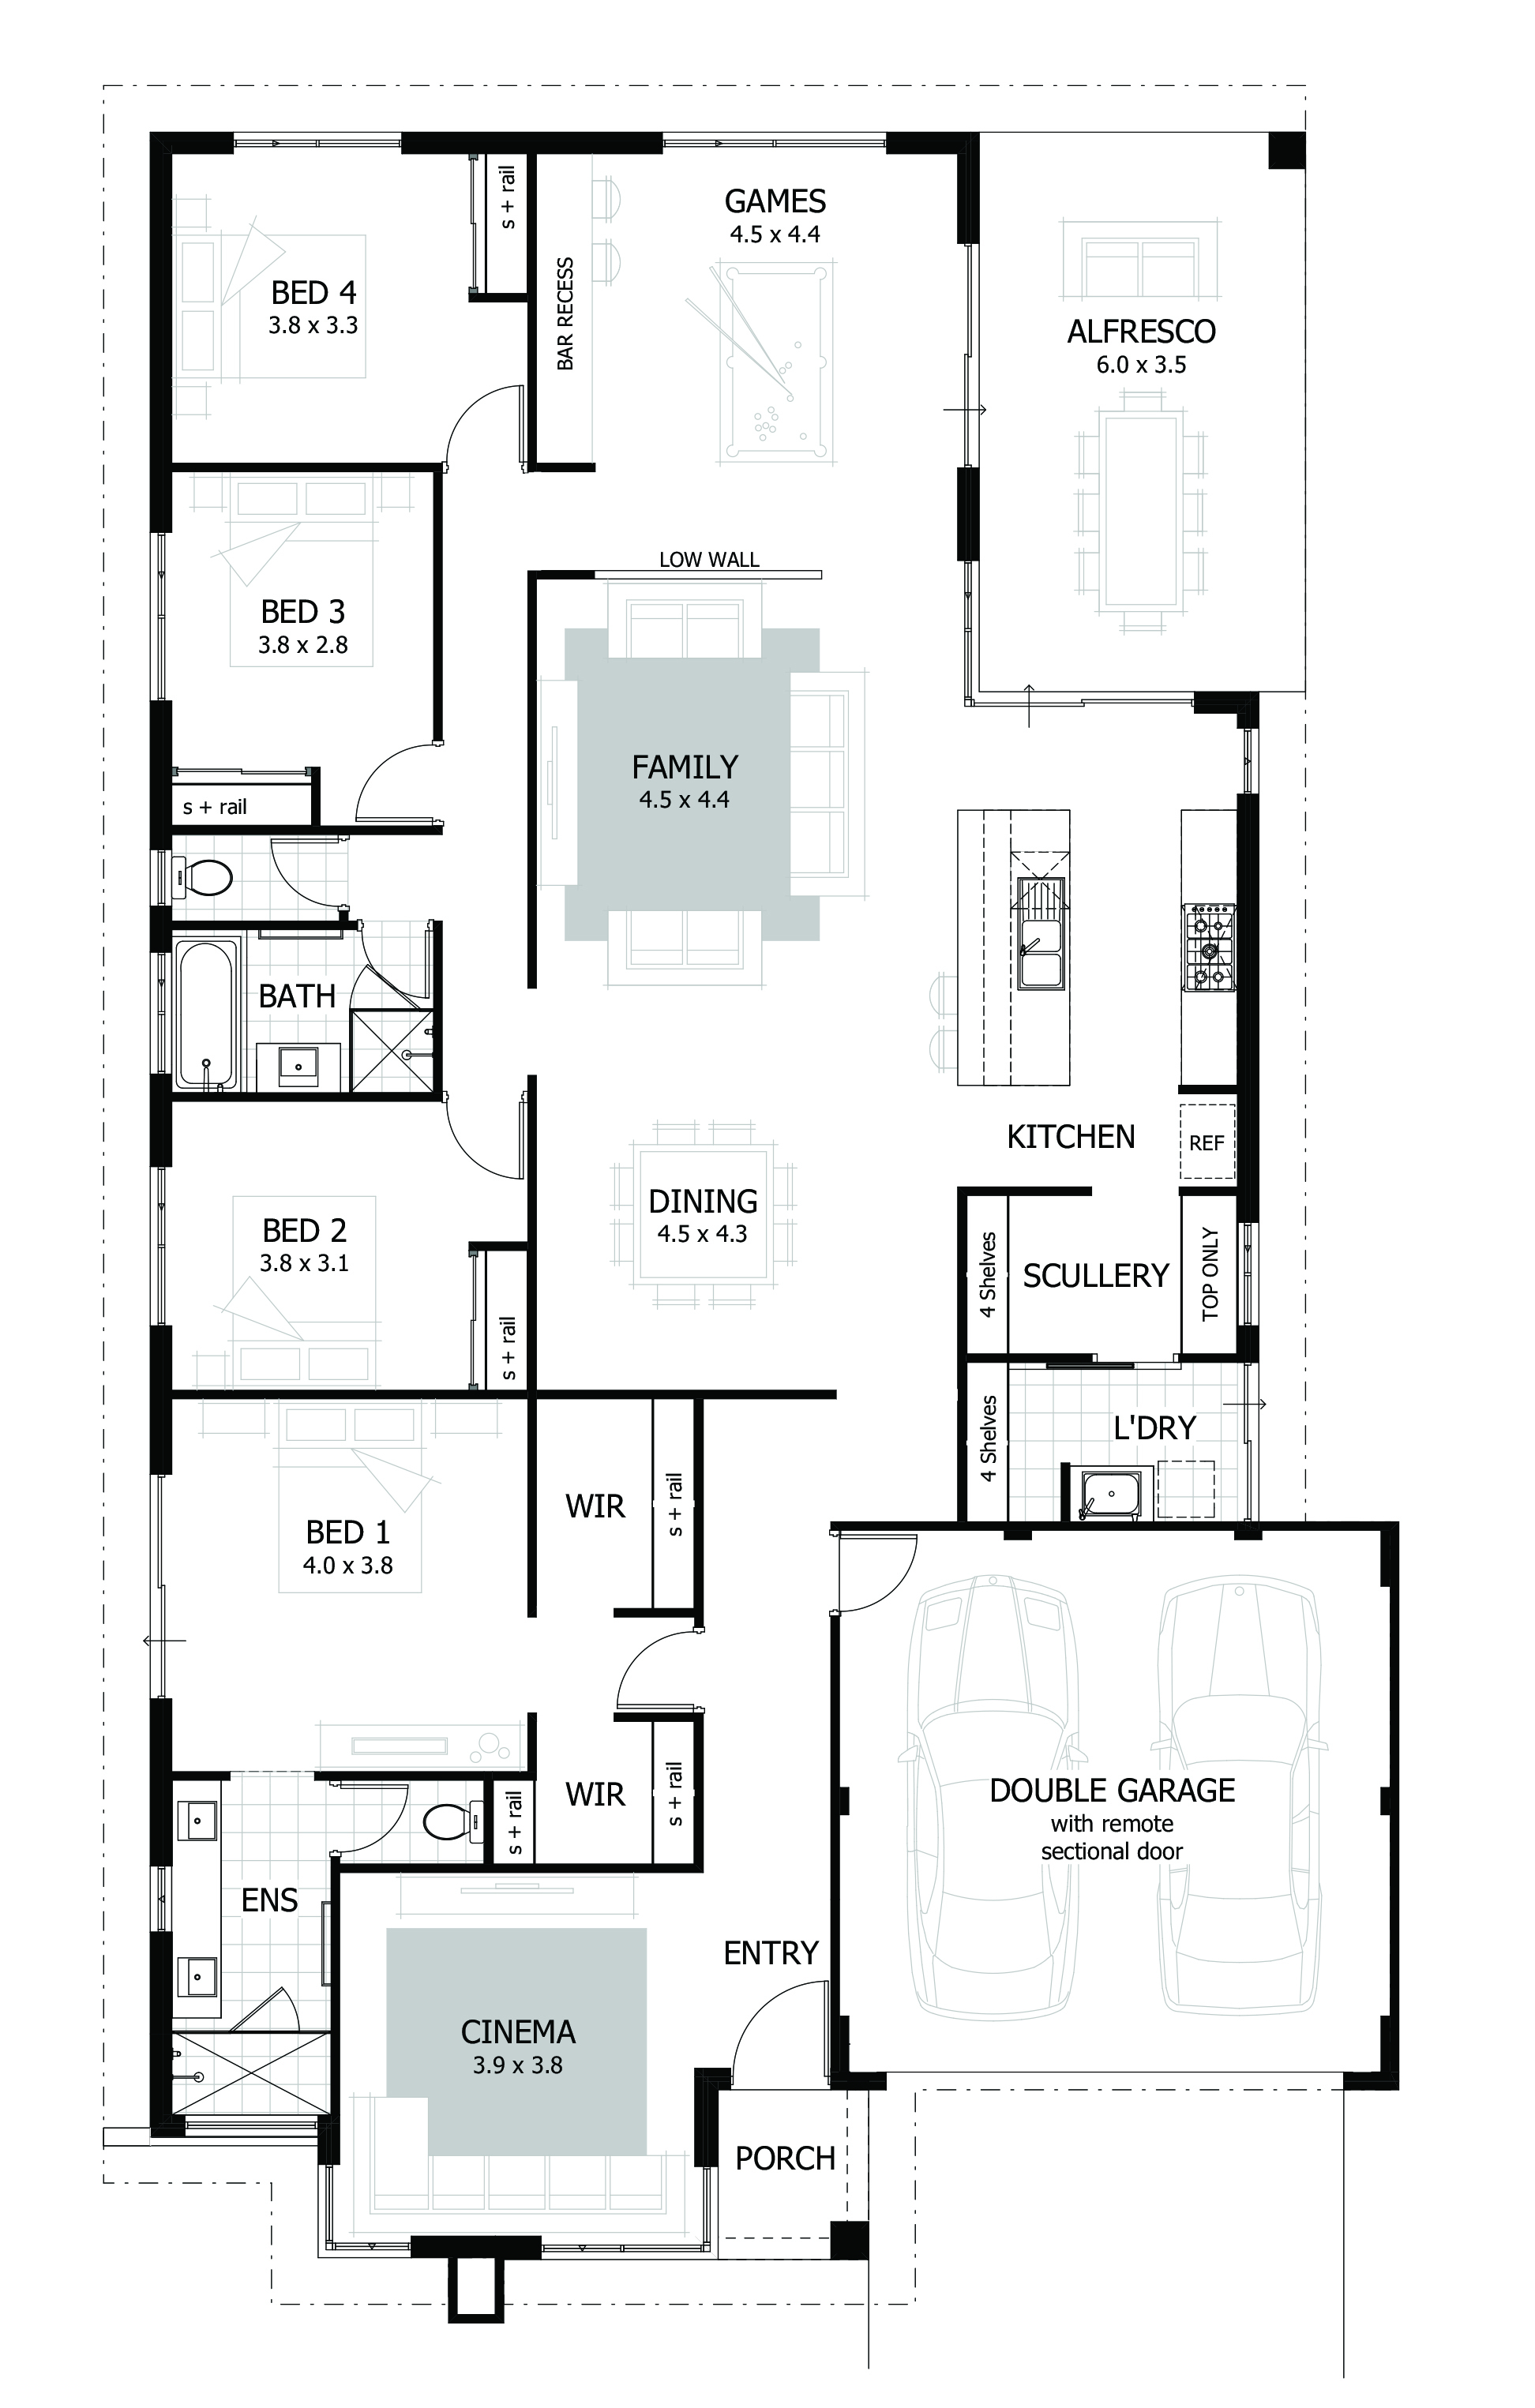window: (950, 239, 982, 472), (659, 128, 889, 158), (181, 2111, 323, 2148), (230, 130, 406, 158), (149, 528, 176, 702), (148, 1162, 174, 1329), (148, 950, 174, 1076), (149, 1860, 176, 1934), (148, 846, 172, 909)
